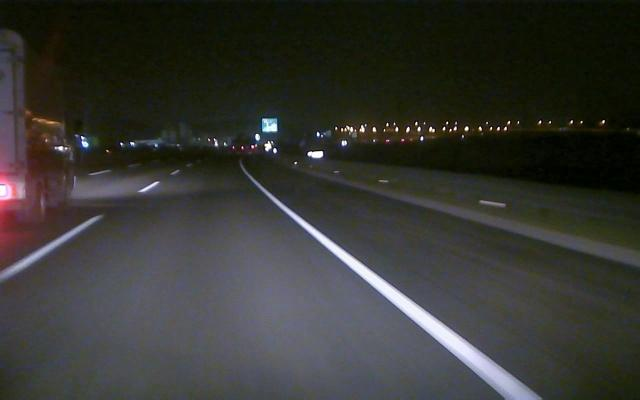lane: (248, 177, 540, 396), (1, 182, 157, 281)
